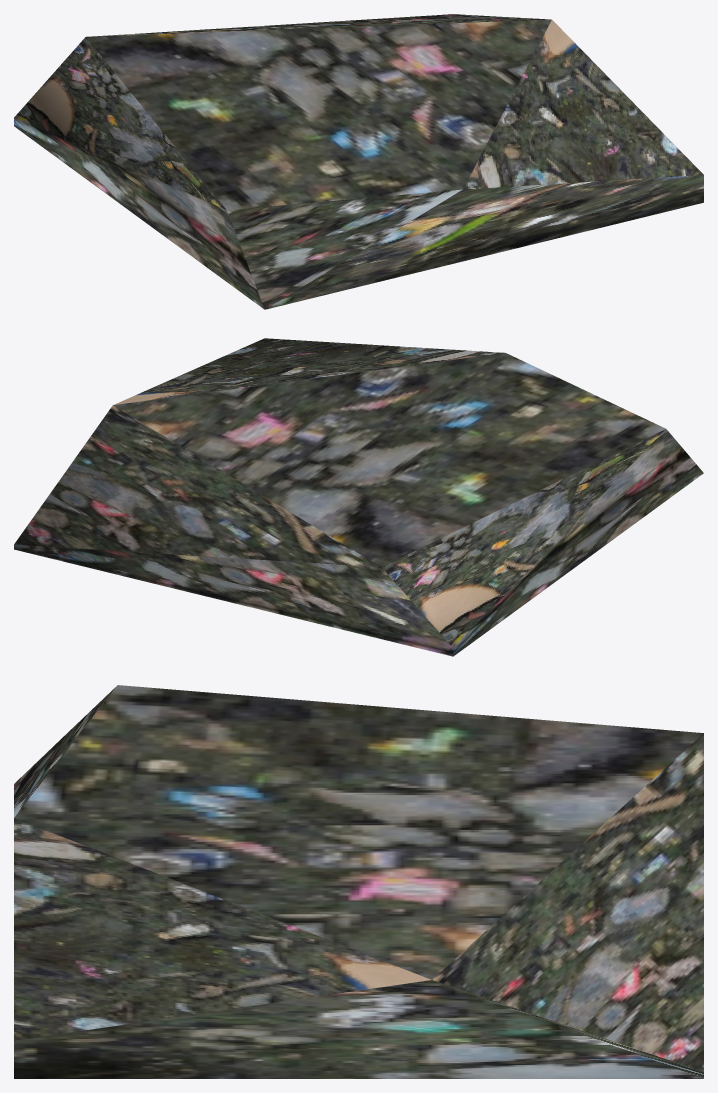
The model's file is Garbage.glb.
3 renders of one model, top to bottom at view 1: azimuth 30°, elevation 25°; view 2: azimuth 150°, elevation 25°; view 3: azimuth 270°, elevation 25°, orthographic. The views are drawn at different scales.
Parts seen in each view (by area): view 1: Cube; view 2: Cube; view 3: Cube.
Part boxes in pixels (<box>): Cube: <box>14,14,703,309</box>; Cube: <box>14,338,703,656</box>; Cube: <box>14,685,703,1078</box>.
Size of the model in its own units: 3.28 by 0.513 by 3.24.
1 material, 1 textured.
